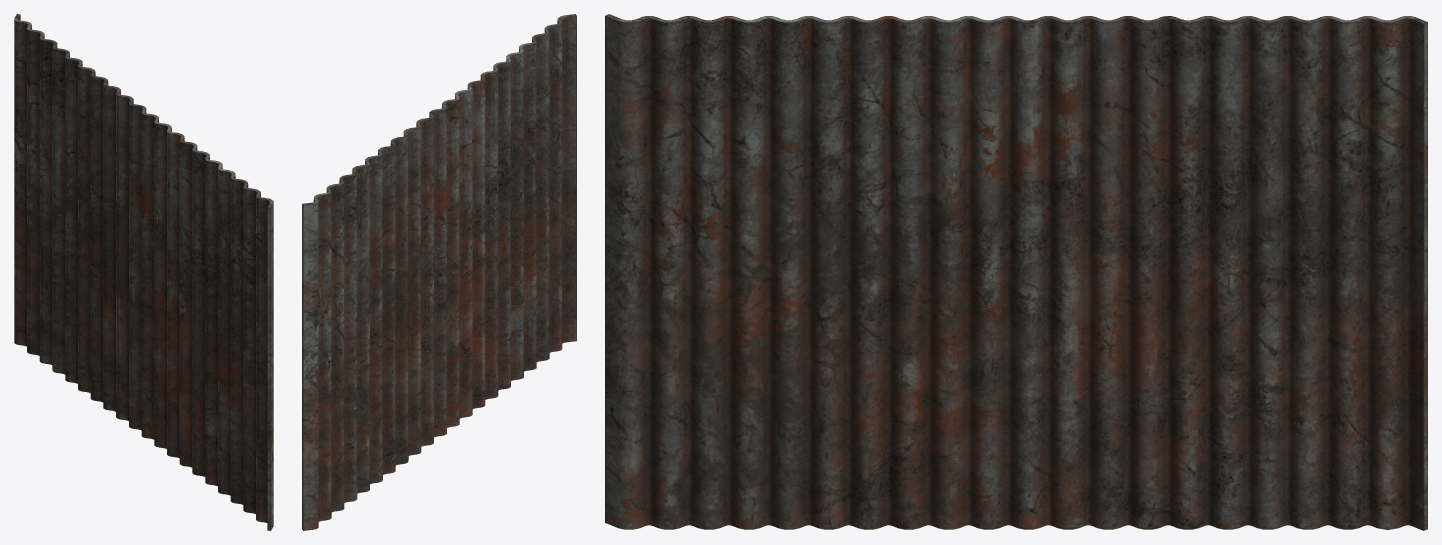
Rendered from SM_CorrugatedMetal_02.glb.
3 renders of one model, left to right at view 1: azimuth 30°, elevation 25°; view 2: azimuth 150°, elevation 25°; view 3: azimuth 270°, elevation 25°, orthographic. The views are drawn at different scales.
Visible parts, largest first — view 1: SM_CorrugatedMetal_02; view 2: SM_CorrugatedMetal_02; view 3: SM_CorrugatedMetal_02.
Part boxes in pixels (bbox=[...]): SM_CorrugatedMetal_02: bbox=[14, 14, 273, 530]; SM_CorrugatedMetal_02: bbox=[302, 14, 576, 530]; SM_CorrugatedMetal_02: bbox=[605, 14, 1427, 530].
Bounding box in the file's own units: 0.0579 × 1.37 × 2.01.
1 material, 1 textured.
